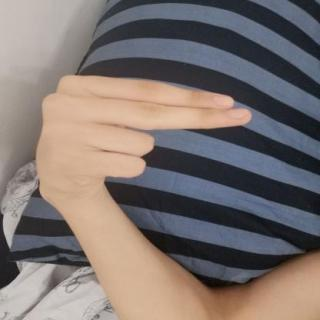AYN: (21, 62, 263, 210)
